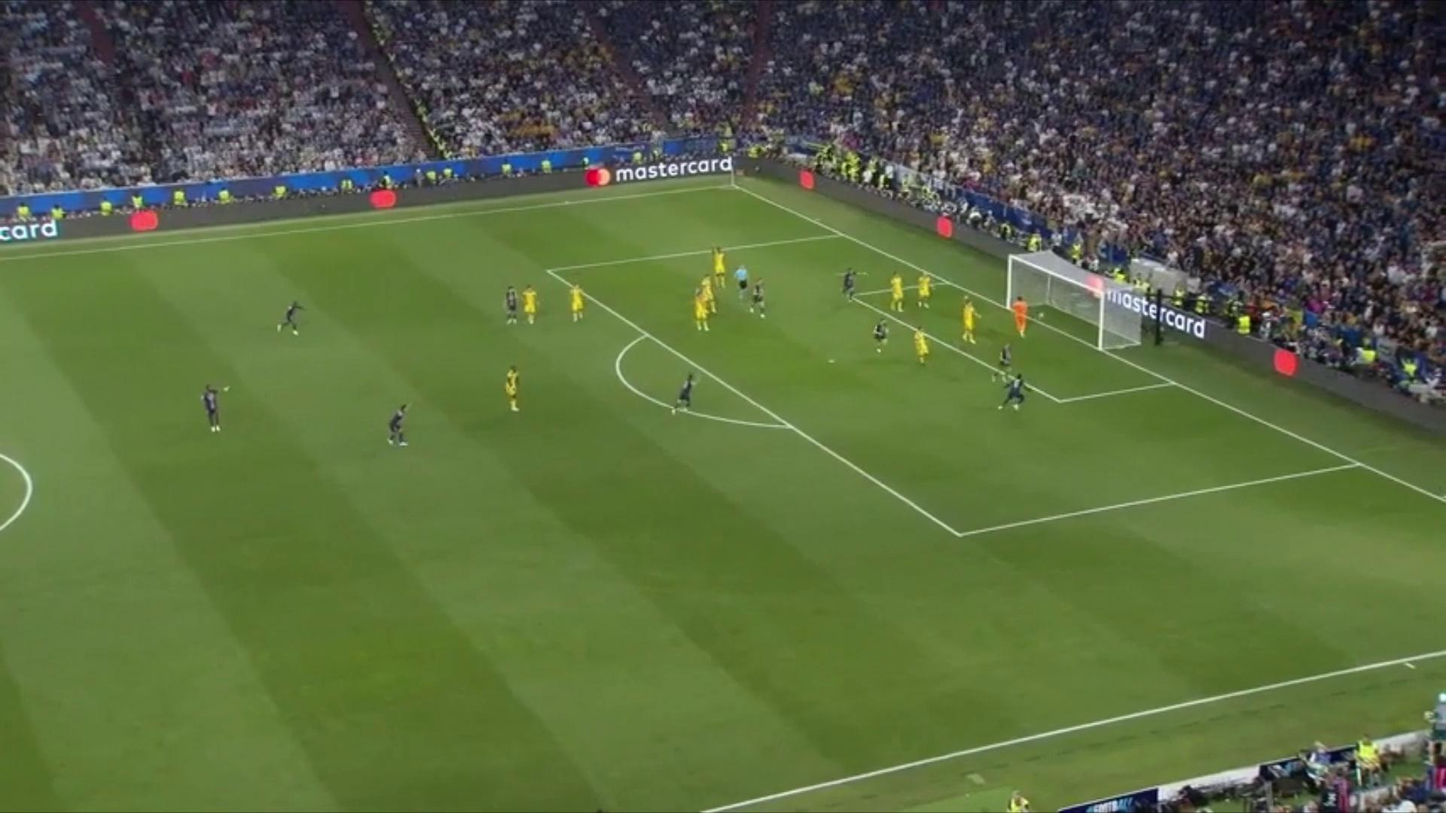ball: (1038, 310, 1046, 321)
player_A: (671, 371, 696, 416), (999, 372, 1027, 410), (278, 300, 306, 336), (387, 403, 409, 447), (996, 343, 1013, 382), (871, 319, 889, 355), (748, 280, 765, 317), (504, 286, 519, 324), (841, 269, 857, 301)
player_B: (202, 385, 224, 431), (693, 288, 712, 331), (960, 299, 978, 344), (505, 367, 522, 413), (697, 273, 717, 312), (520, 285, 538, 325), (888, 273, 905, 312), (916, 273, 934, 309), (569, 283, 585, 323), (711, 245, 726, 286), (914, 328, 930, 366)
player_B_goal_keeper: (1011, 294, 1029, 337)
referee: (734, 264, 748, 297)
